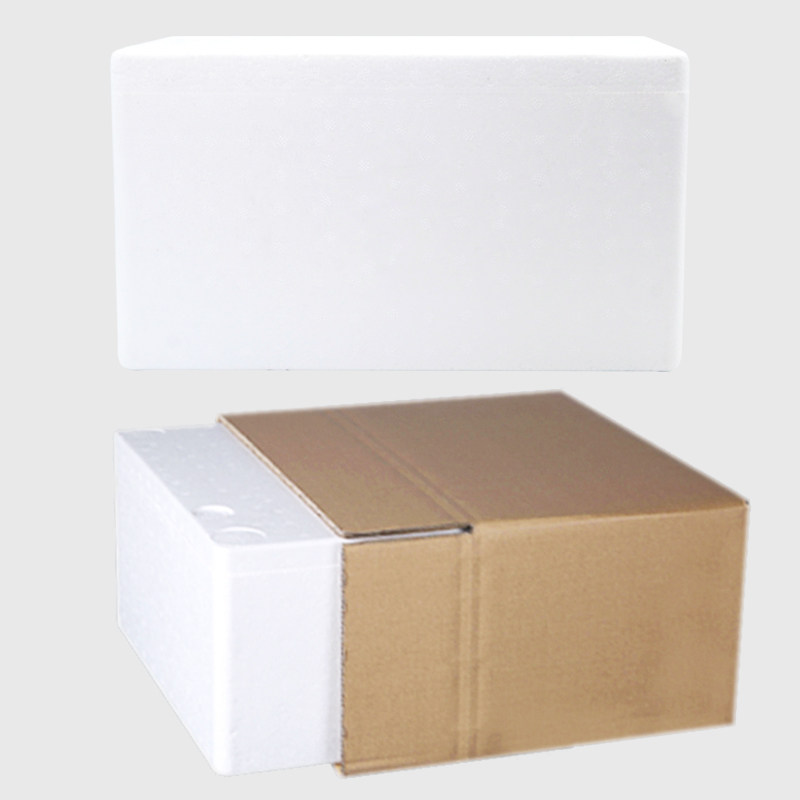泡沫箱: (112, 39, 687, 373), (116, 424, 342, 773)
